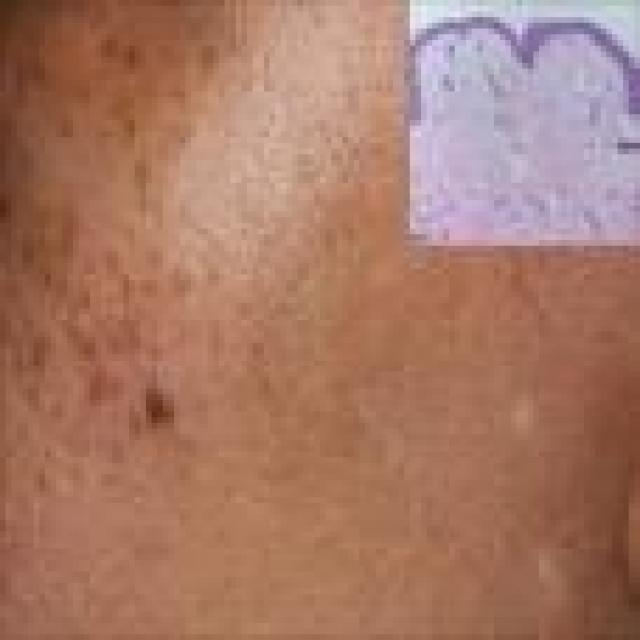Melasma: (0, 0, 236, 514)
